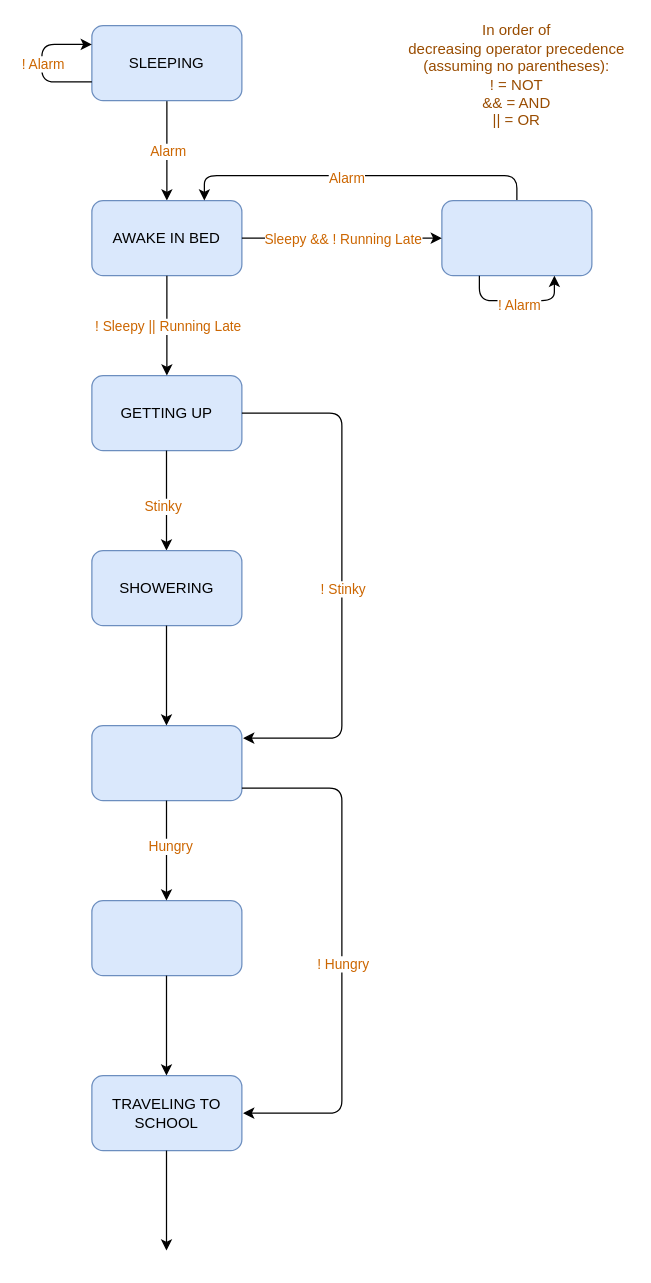
The diagram is 651 pixels wide and 1283 high, and some of its shapes have lost their labels. The shapes that lost their labels are listed below. From the top down, each one's centre as x and y in pixels, then its label:
(x=516, y=237): SNOOZING
(x=166, y=762): GETTING DRESSED
(x=166, y=937): EATING BREAKFAST
